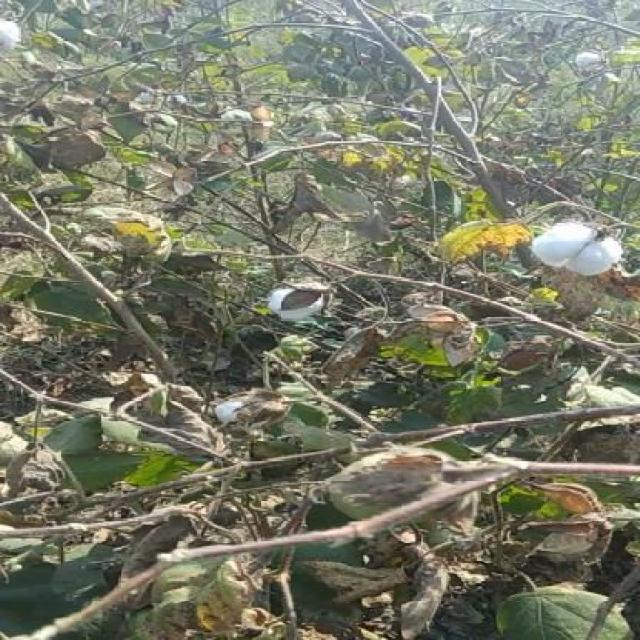cotton_ready: (503, 200, 620, 289), (202, 378, 313, 438), (257, 266, 341, 322)
